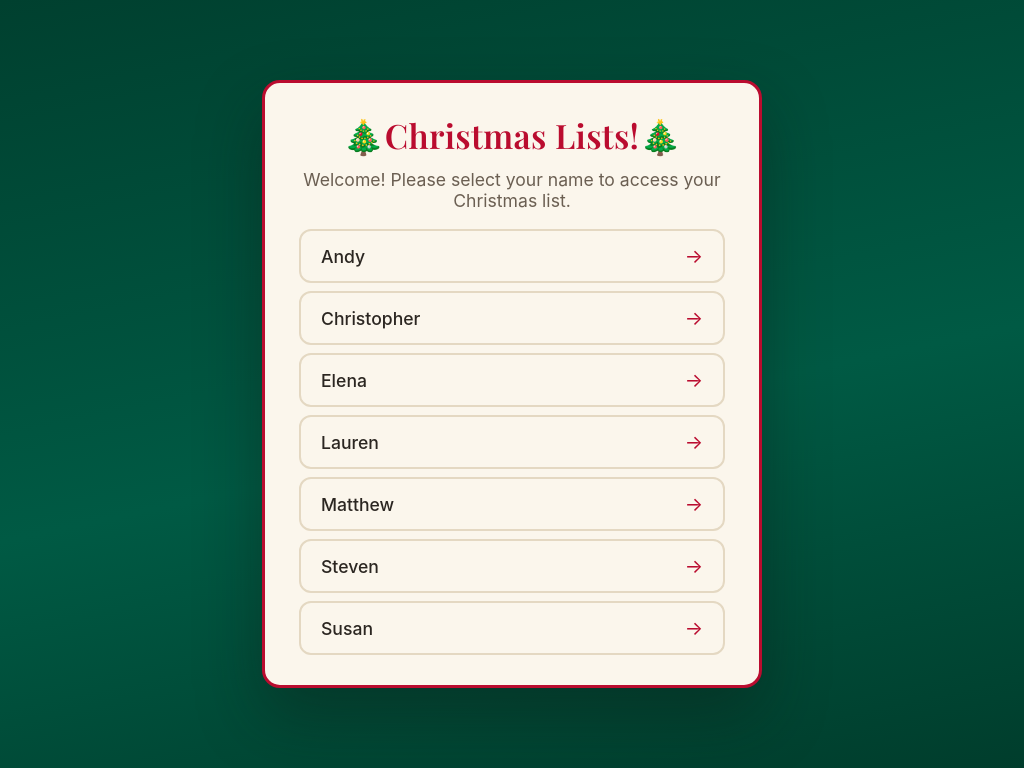
Test: a wrong password shows an error and does not sign in
Click the text "Andy": click(343, 256) [321,246,365,266]
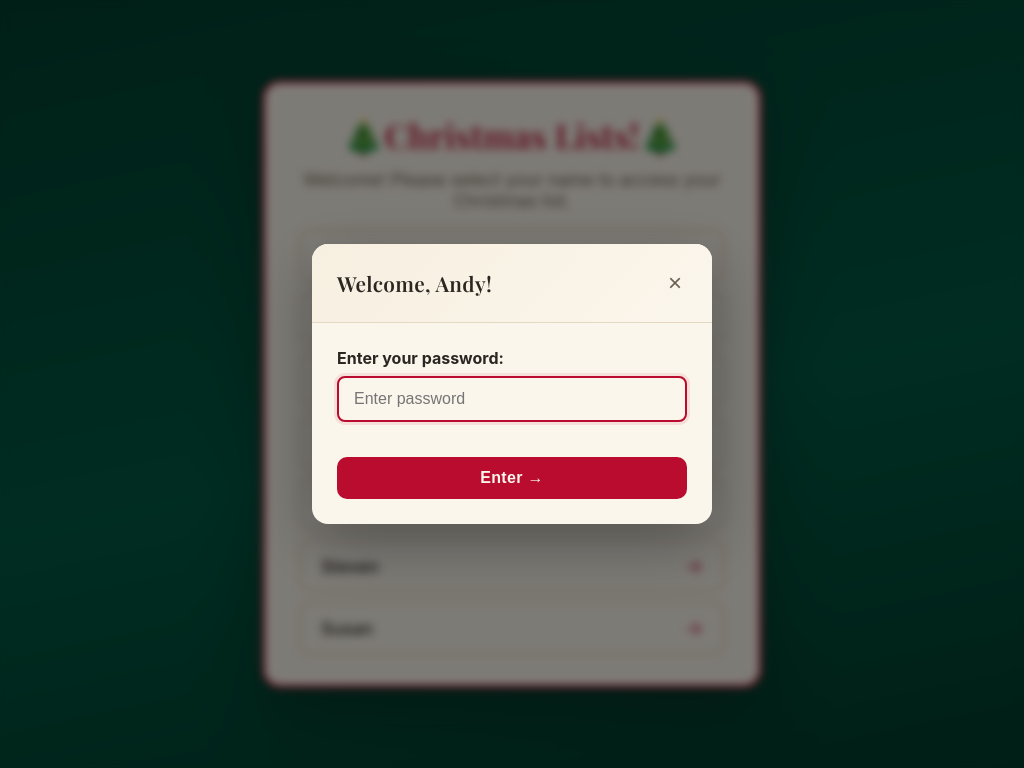
In the password field labelled "Enter your password:": (512, 399) [337,376,687,422], type "nope"
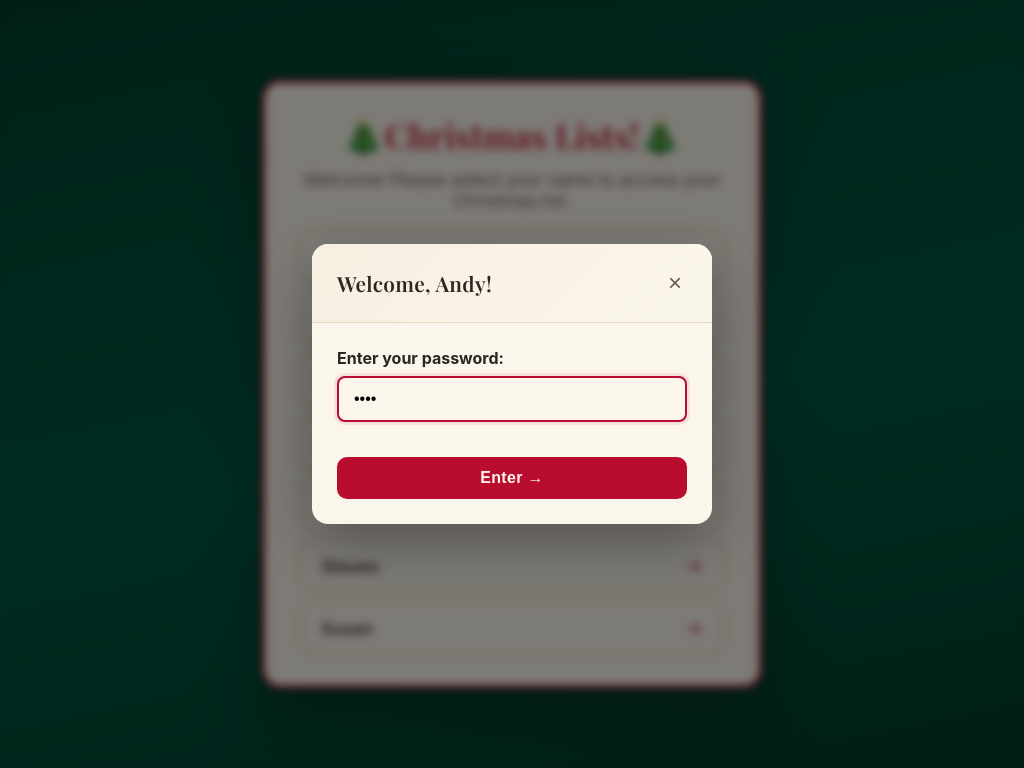
Click the button "Enter →": click(512, 478) [337,457,687,499]
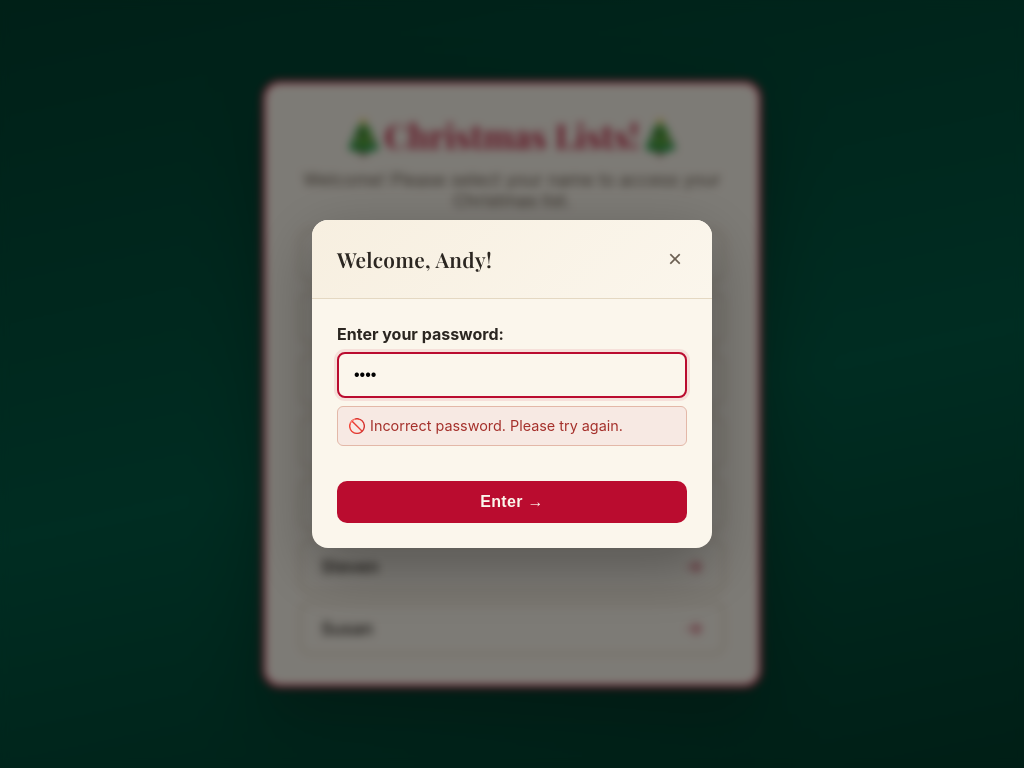
Result: the text "🚫 Incorrect password. Please try again." is shown at [337,406,687,446]
